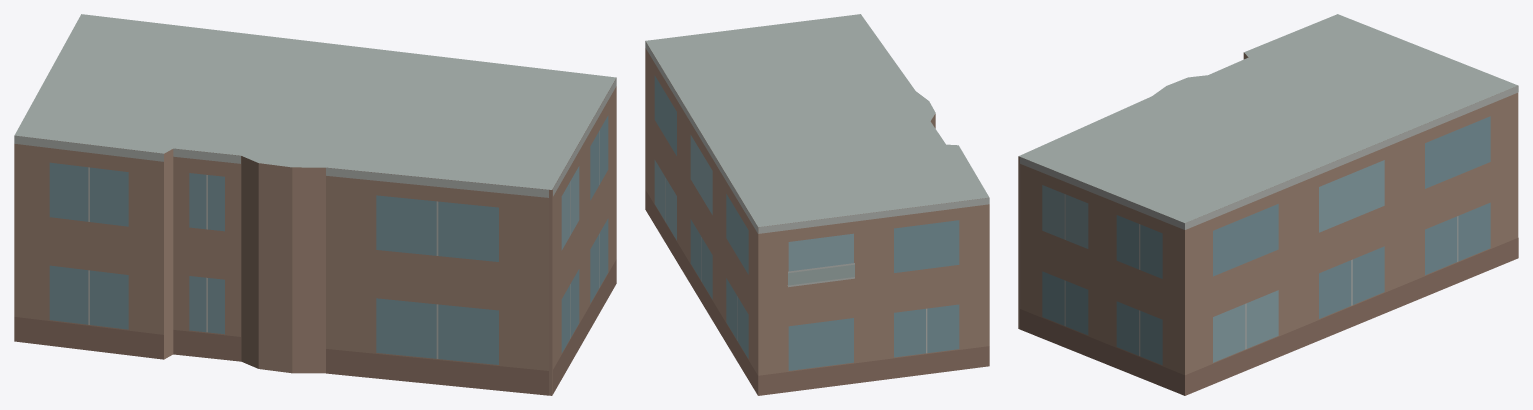
The model's file is survey-upis-32619263.glb.
3 views of the same model, side by side, from view 1: azimuth 30°, elevation 25°; view 2: azimuth 150°, elevation 25°; view 3: azimuth 270°, elevation 25° (orthographic). The views are drawn at different scales.
Visible parts, largest first — view 1: survey-upis-32619263.tmp; view 2: survey-upis-32619263.tmp; view 3: survey-upis-32619263.tmp.
Part boxes in pixels (x1,y1,x2,y2): survey-upis-32619263.tmp: (14,14,616,395); survey-upis-32619263.tmp: (645,14,989,395); survey-upis-32619263.tmp: (1018,14,1518,395).
Bounding box in the file's own units: 15.86 × 6.1 × 16.01.
